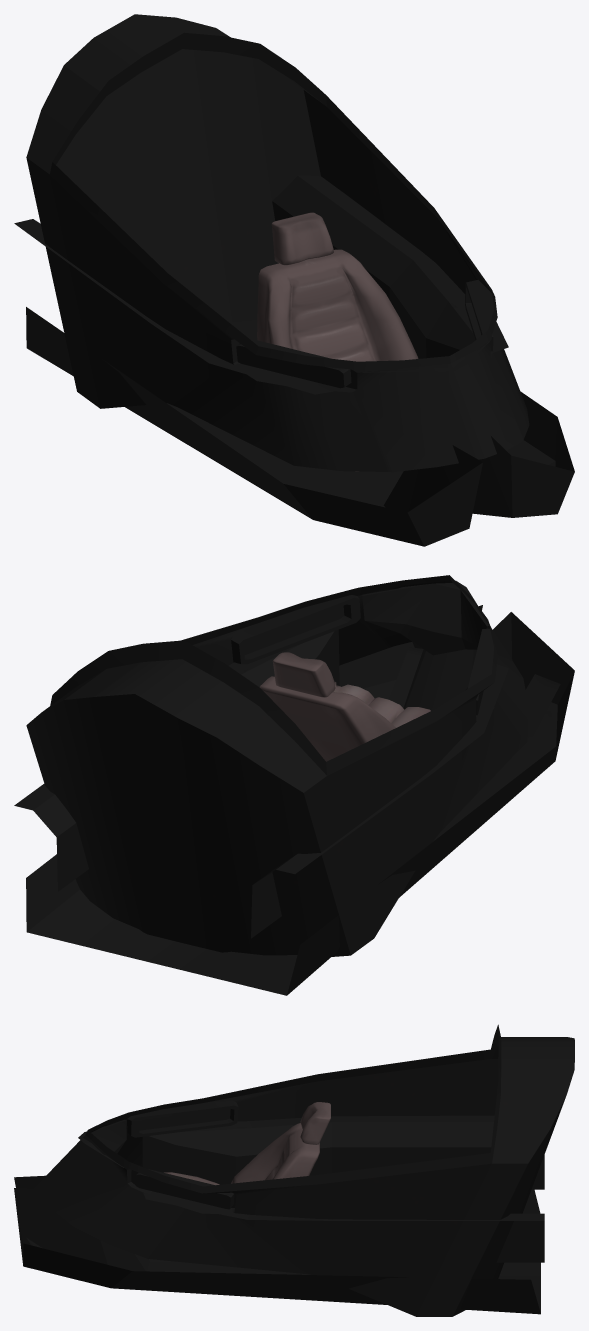
Rendered from cockpit_interior.fbx.
The picture shows the model from 3 angles, top to bottom: view 1: azimuth 30°, elevation 25°; view 2: azimuth 150°, elevation 25°; view 3: azimuth 270°, elevation 25°; orthographic projection. The views are drawn at different scales.
Visible parts, largest first — view 1: cockpitShell, chair; view 2: cockpitShell, chair; view 3: cockpitShell, chair.
Boxes of the visible parts, x1=… form: cockpitShell: x1=14, y1=14, x2=574, y2=546; chair: x1=257, y1=212, x2=418, y2=471; cockpitShell: x1=14, y1=575, x2=574, y2=995; chair: x1=259, y1=652, x2=430, y2=761; cockpitShell: x1=14, y1=1024, x2=574, y2=1316; chair: x1=164, y1=1102, x2=330, y2=1185.
Size of the model in its own units: 0.897 by 0.9264 by 2.
